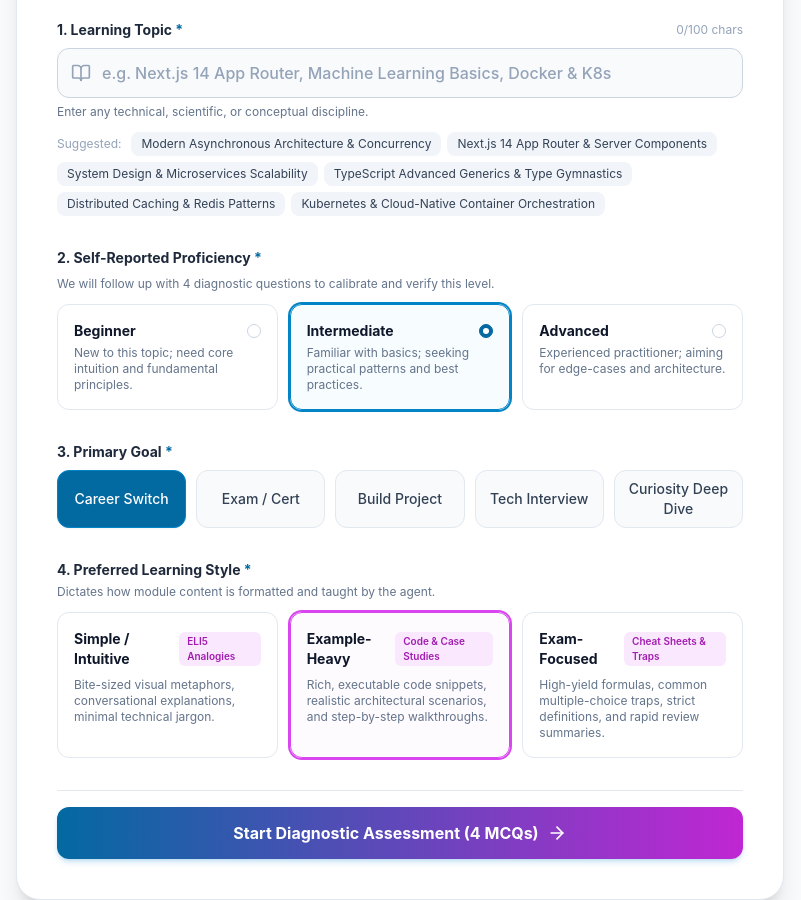
Test case: OnboardingForm Component › shows error when submitting empty topic
(page scrolled)
Click the button "Start Diagnostic Assessment (4 MCQs)" at (400, 833), box [57, 807, 743, 859]
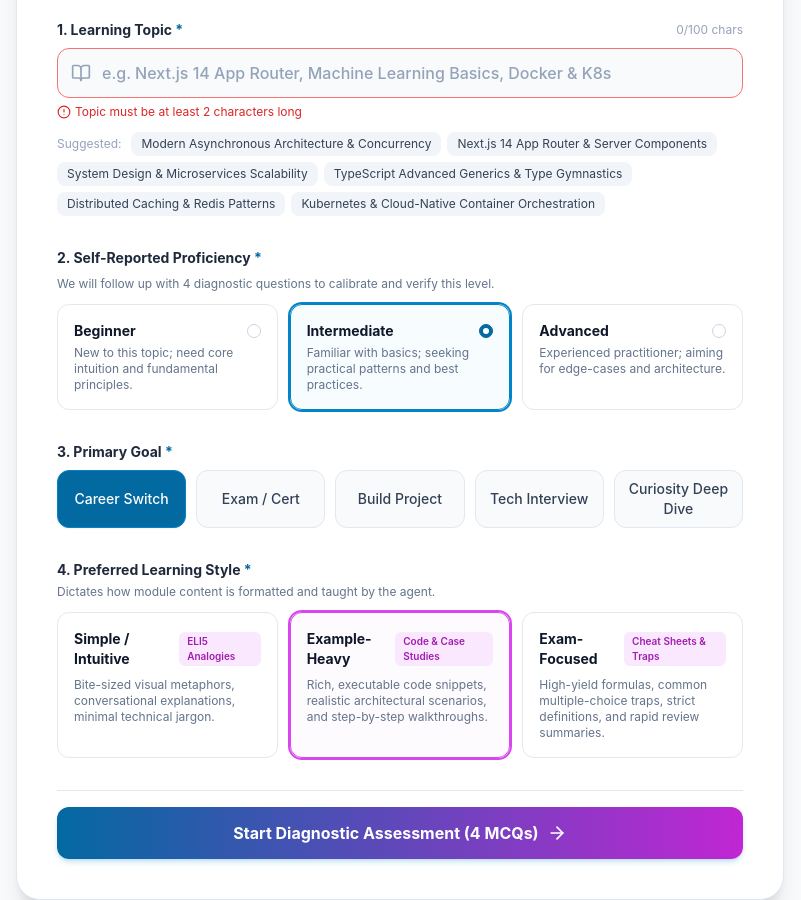
Expected: the message "Topic must be at least 2 characters long" is shown, [57, 104, 302, 119]
